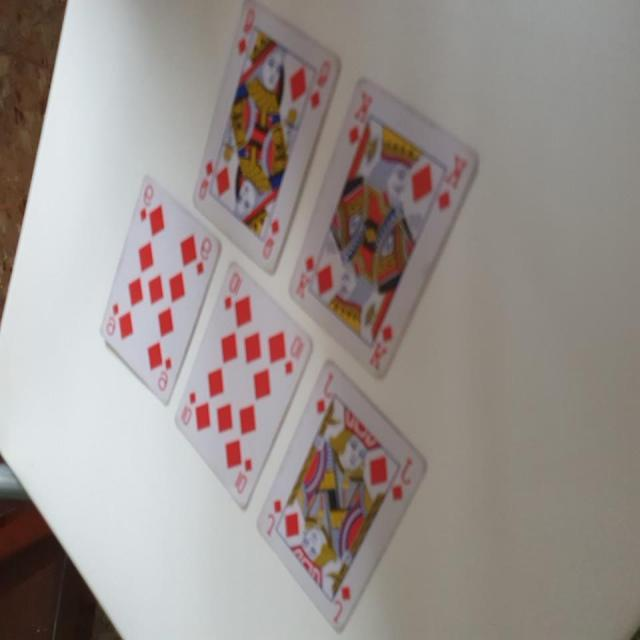10 of diamonds: (171, 262, 318, 514)
9 of diamonds: (98, 174, 222, 404)
jack of diamonds: (254, 359, 430, 636)
king of diamonds: (289, 75, 482, 382)
queen of diamonds: (191, 0, 340, 278)
